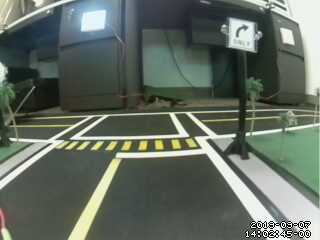Right_only_sign: (233, 18, 254, 51)
